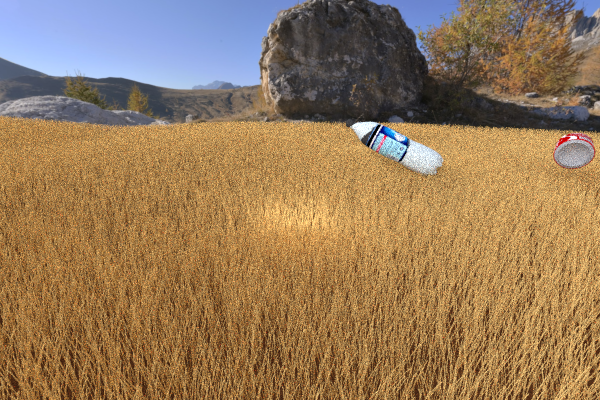bottle: (345, 118, 443, 176)
can: (553, 132, 595, 168)
